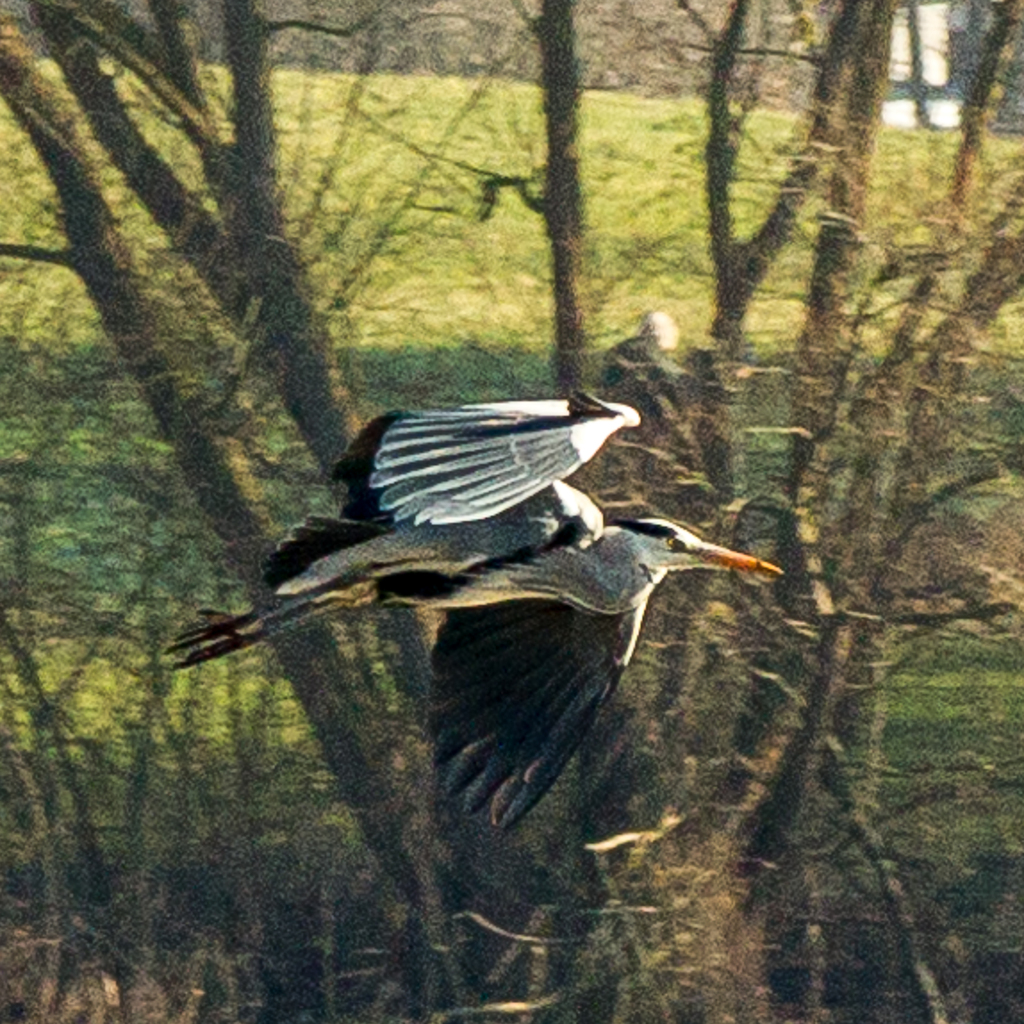heron: (162, 385, 789, 832)
